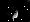person: (8, 8, 14, 21), (12, 8, 18, 19)
